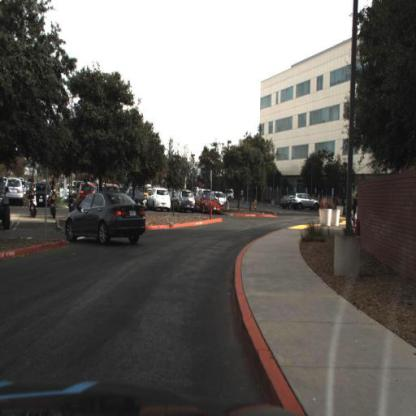car: (64, 187, 148, 249), (2, 166, 15, 235), (195, 189, 225, 218), (172, 186, 200, 215), (4, 171, 27, 206), (30, 179, 54, 209), (148, 186, 173, 213), (289, 191, 321, 211), (214, 185, 229, 208), (225, 184, 236, 202)
